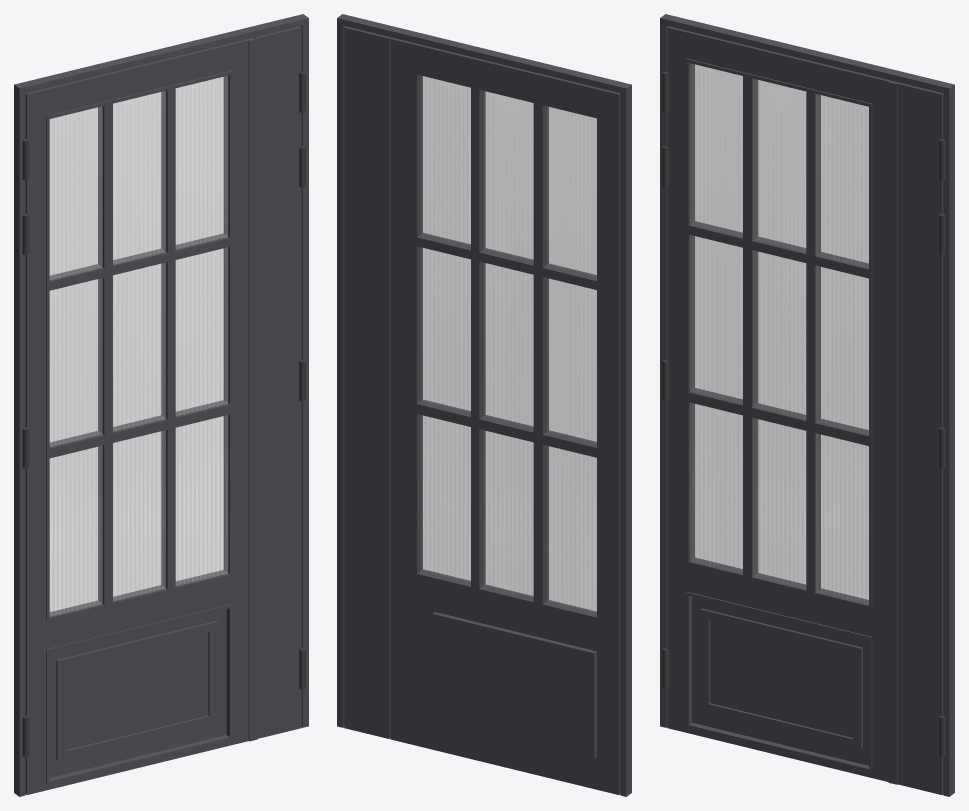
Rendered from gate-2.glb.
The picture shows the model from 3 angles, left to right: view 1: azimuth 30°, elevation 25°; view 2: azimuth 150°, elevation 25°; view 3: azimuth 330°, elevation 25°; orthographic projection.
Parts seen in each view (by area): view 1: Cube.004; view 2: Cube.004; view 3: Cube.004.
Part boxes in pixels (x1=…): Cube.004: x1=14, y1=14, x2=308, y2=796; Cube.004: x1=337, y1=14, x2=631, y2=796; Cube.004: x1=660, y1=14, x2=954, y2=796.
Size of the model in its own units: 0.91 by 2.13 by 0.0543.
3 materials, 1 textured.
